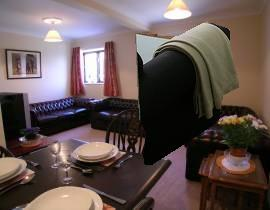tampered: (136, 22, 239, 165)
